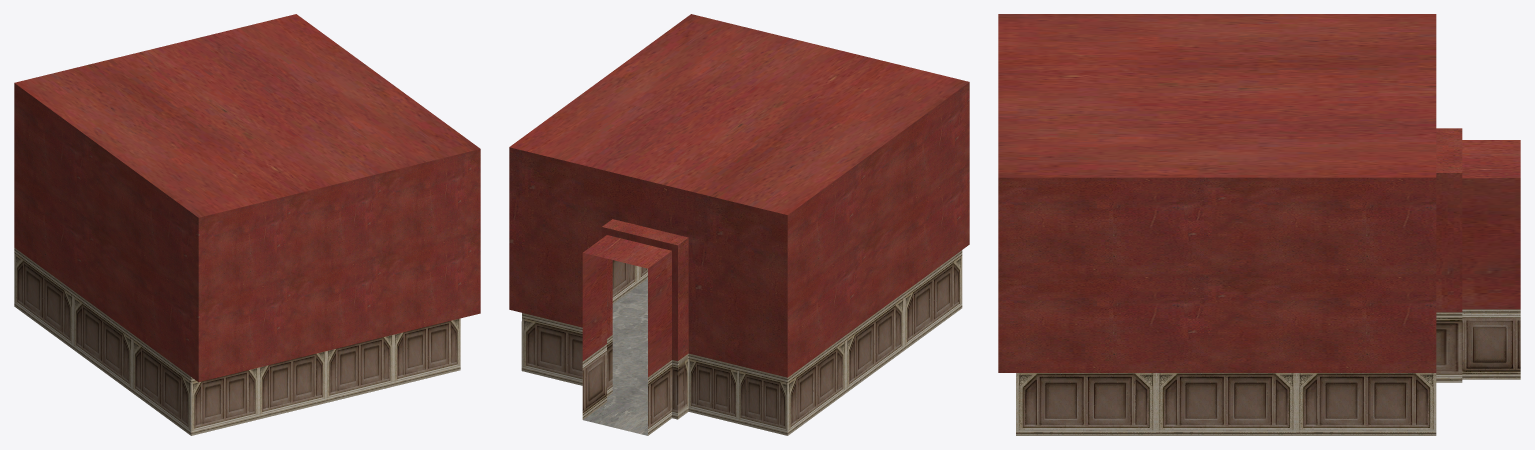
File: thm_nboo_block_bldg_64x32_s01_r2_foyer2_mesh_r2.fbx
The picture shows the model from 3 angles, left to right: view 1: azimuth 30°, elevation 25°; view 2: azimuth 150°, elevation 25°; view 3: azimuth 270°, elevation 25°; orthographic projection. The views are drawn at different scales.
Parts seen in each view (by area): view 1: mesh_node; view 2: mesh_node; view 3: mesh_node.
Boxes of the visible parts, <box> form: mesh_node: <box>14,14,480,435</box>; mesh_node: <box>509,14,969,435</box>; mesh_node: <box>998,14,1520,435</box>.
Size of the model in its own units: 5.5 by 4.16 by 7.42.
